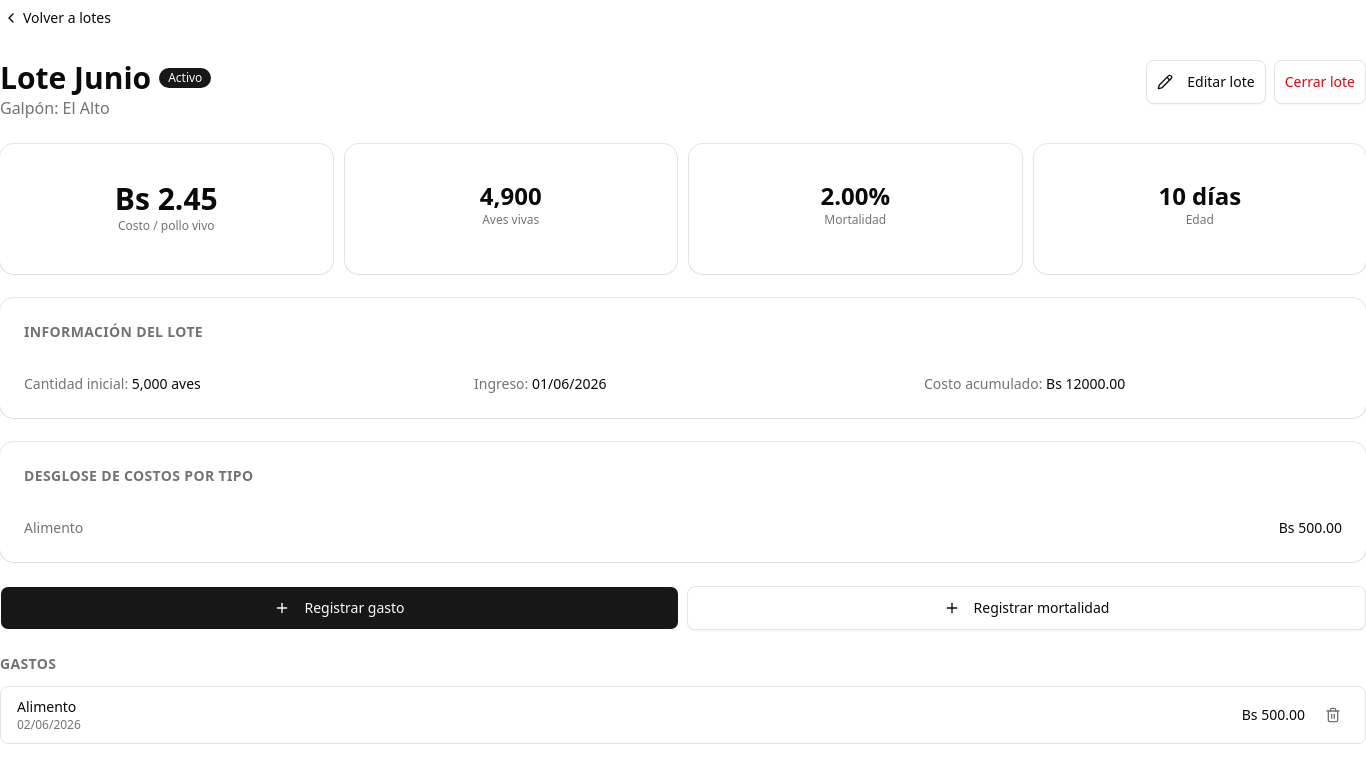
Test: LoteDetailPage — eliminar movimiento con confirmación › no elimina al primer clic; pide confirmación antes de mutar
Click the button named "eliminar movimiento" at (1333, 715), box [1317,699,1349,731]
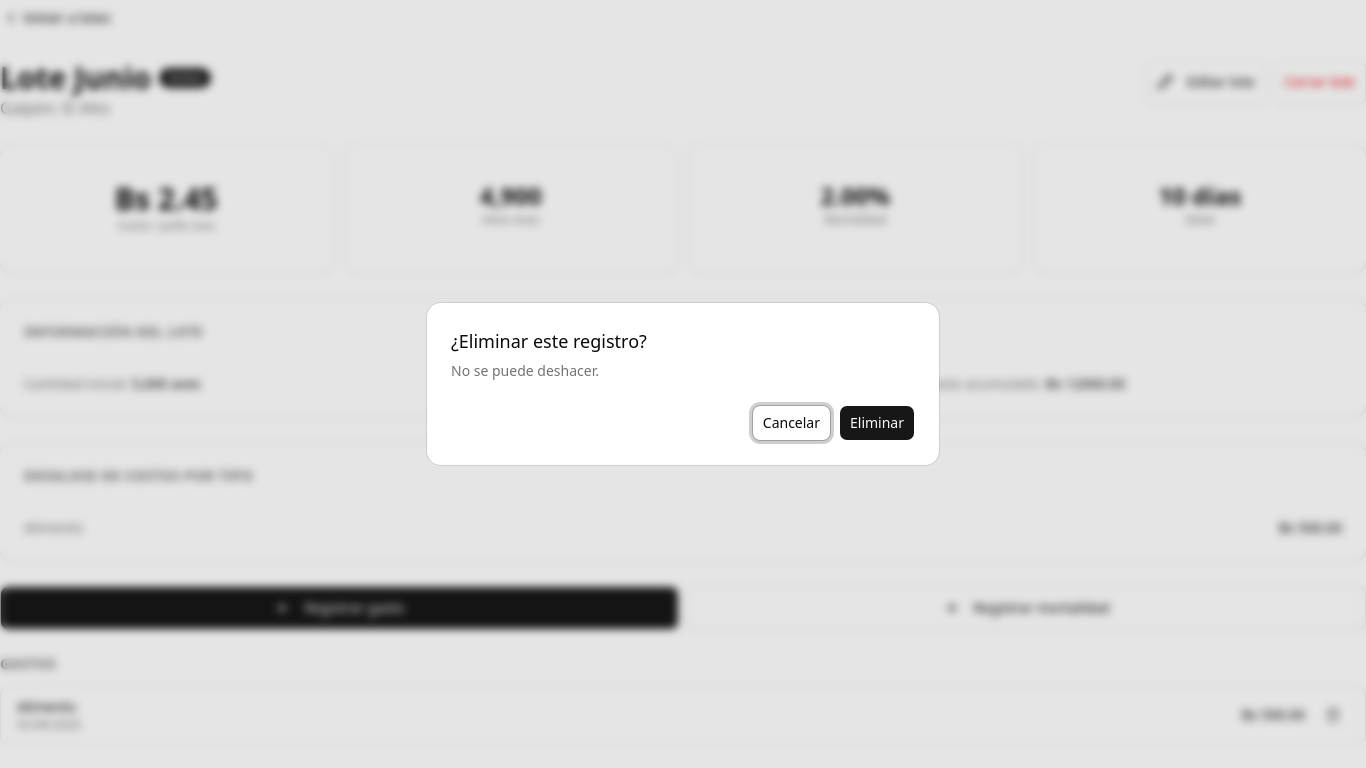
Expected: the text "No se puede deshacer." is shown, [451,361,599,381]
